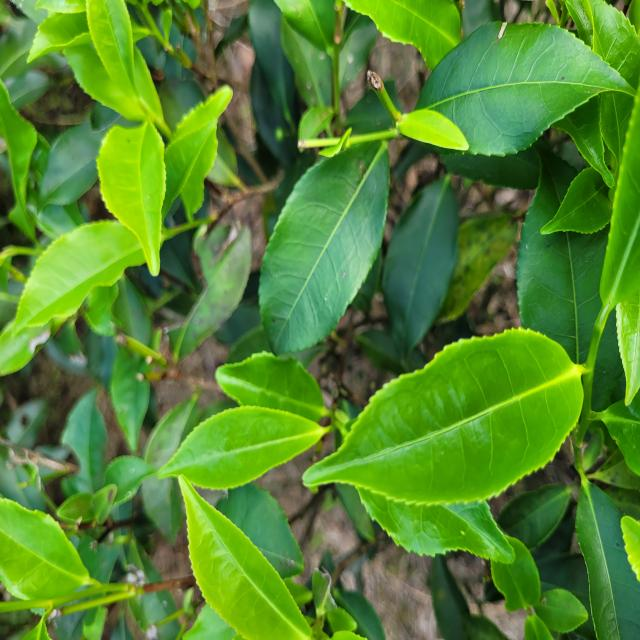Category B(2-4 days): (288, 304, 598, 529)
